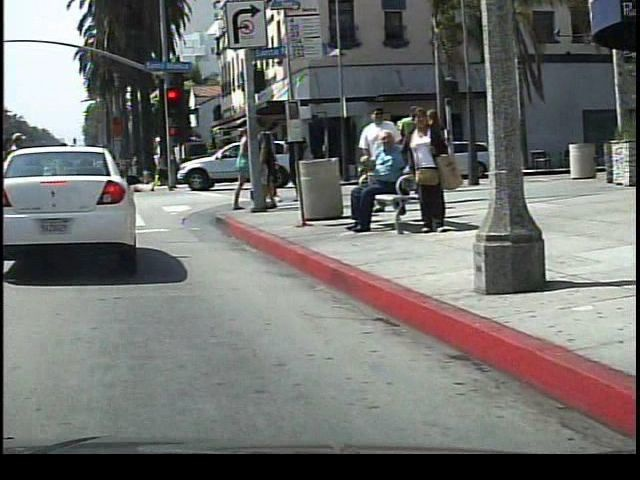person: (344, 133, 412, 240), (397, 106, 449, 235), (146, 149, 171, 197), (234, 123, 246, 213)
